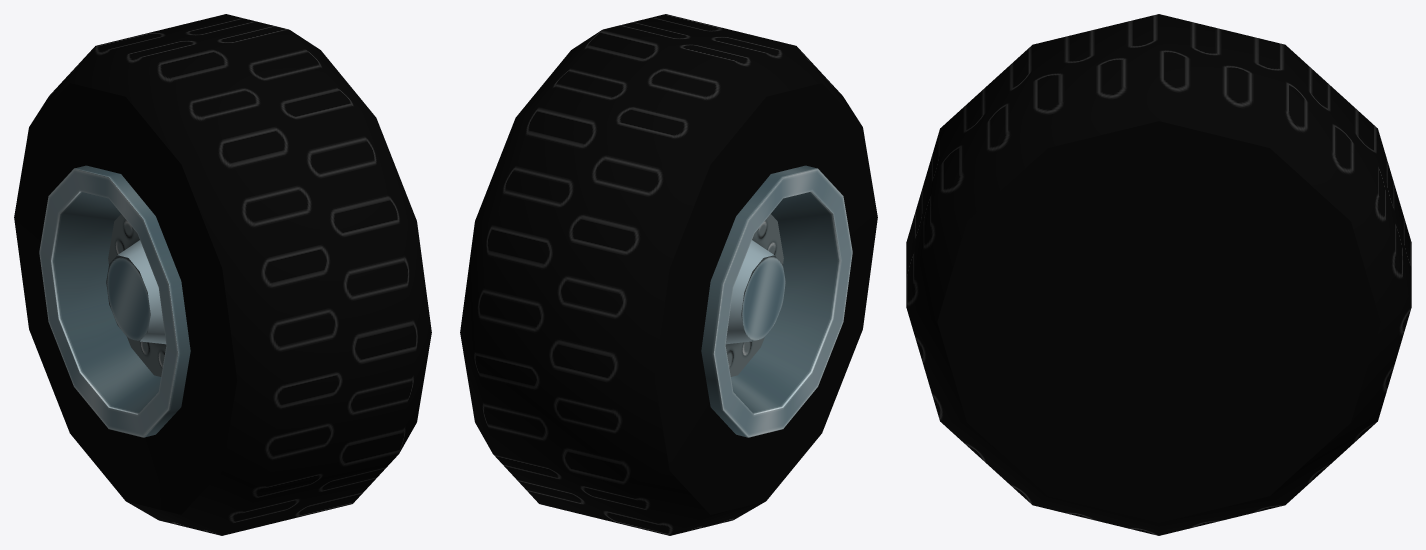
File: wheel_monster.FBX
The picture shows the model from 3 angles, left to right: view 1: azimuth 30°, elevation 25°; view 2: azimuth 150°, elevation 25°; view 3: azimuth 270°, elevation 25°; orthographic projection.
Parts seen in each view (by area): view 1: wheel_monster; view 2: wheel_monster; view 3: wheel_monster.
Part boxes in pixels (left/top/right/bottom): wheel_monster: left=14, top=14, right=431, bottom=535; wheel_monster: left=460, top=14, right=877, bottom=535; wheel_monster: left=906, top=14, right=1411, bottom=535.
Size of the model in its own units: 0.0578 by 0.1196 by 0.1196.
